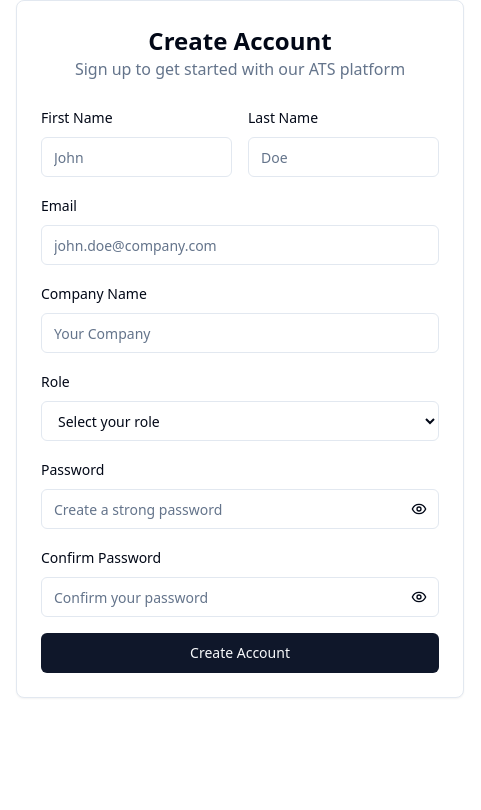
Test: RegisterForm Validation › should prevent form submission with validation errors
# Try to submit empty form
Click the button "Create Account" at {"x": 240, "y": 653}, box [41, 633, 439, 673]
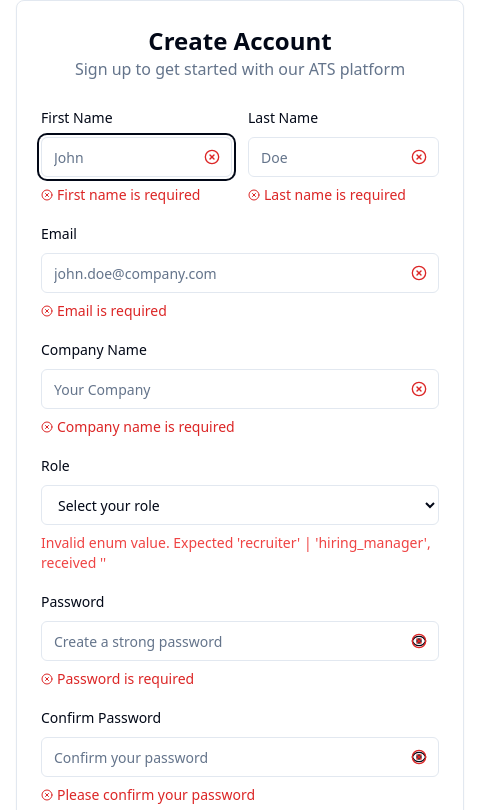
Result: the text "First name is required" is shown at [41, 185, 200, 204]
Result: the text "Last name is required" is shown at [248, 185, 406, 204]
Result: the text "Email is required" is shown at [41, 301, 167, 320]
